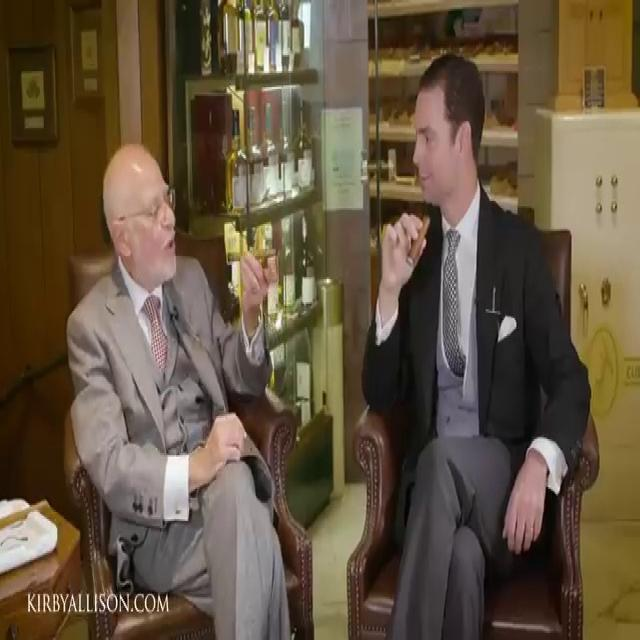Smooking: (404, 211, 441, 271)
